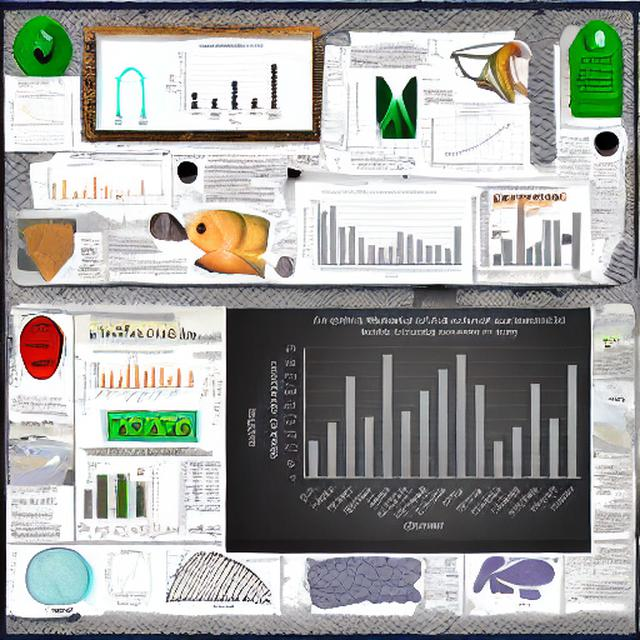Graph: (264, 309, 591, 542), (298, 187, 465, 282), (164, 42, 285, 126), (417, 112, 527, 176), (82, 349, 185, 408), (97, 548, 164, 598), (36, 163, 111, 206), (5, 94, 67, 130)
